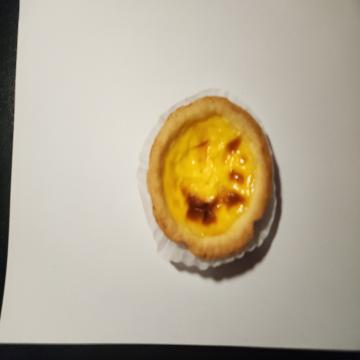EggTart: (146, 94, 272, 260)
